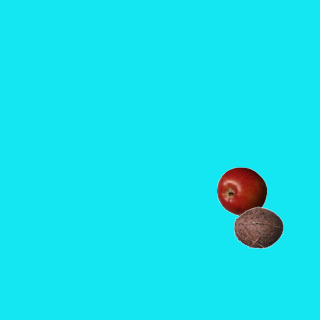Apple Braeburn: (216, 166, 266, 216)
Cocos: (233, 202, 283, 252)
